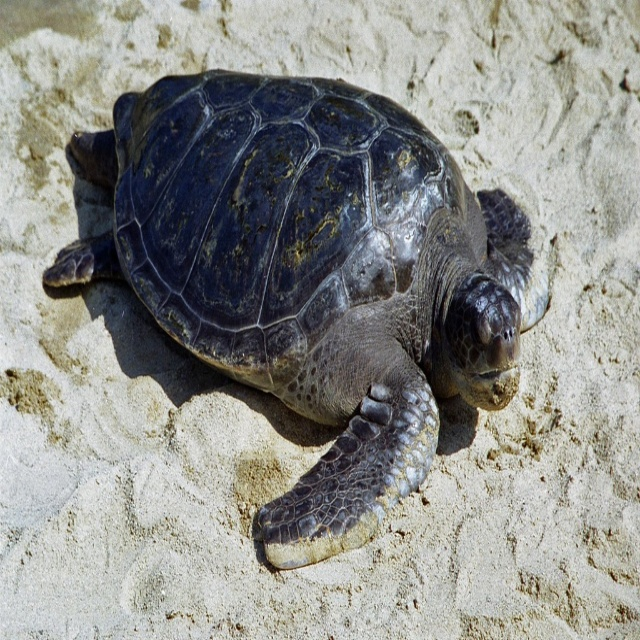Tortoise: (43, 69, 550, 568)
